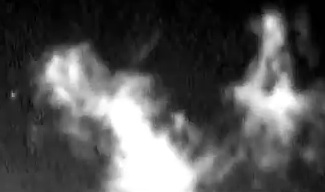Target: (12, 91, 15, 97)
